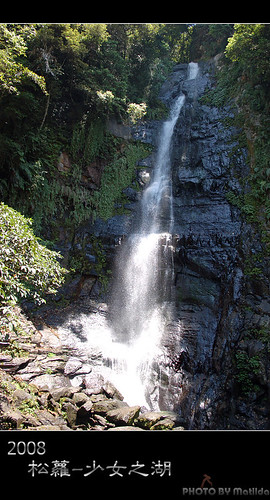wufengciWaterfall: (85, 50, 230, 387)
